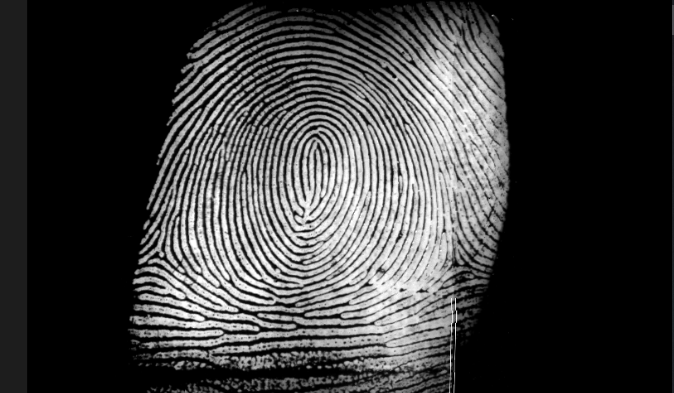deltas: (136, 222, 192, 282), (427, 229, 481, 284)
nucleo: (288, 117, 340, 185)
